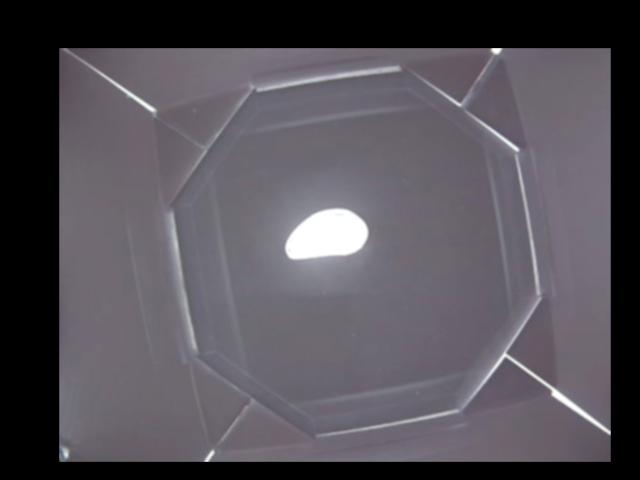Pebble: (284, 209, 368, 259)
